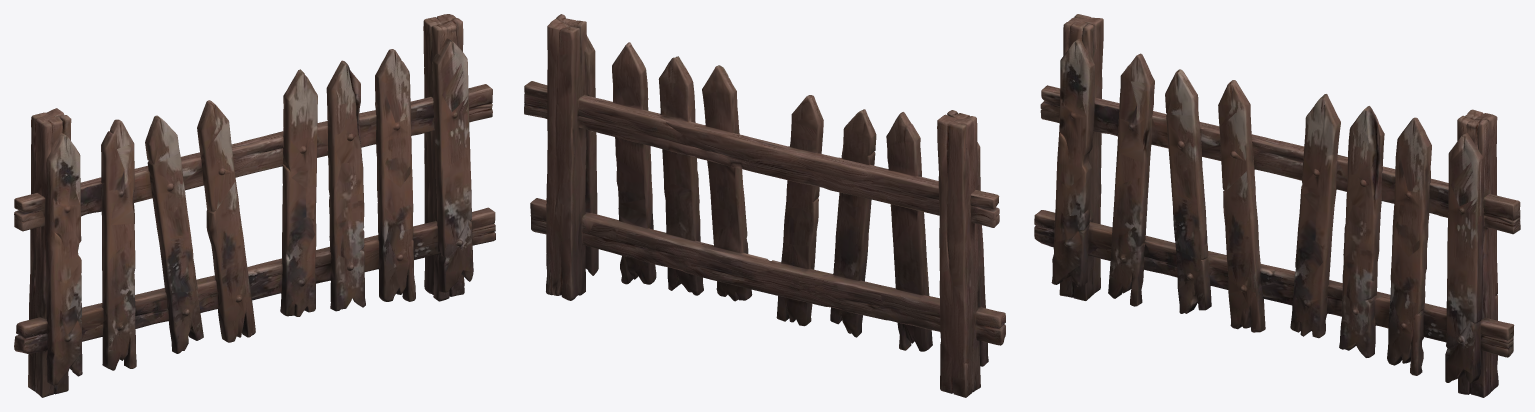
File: ext_fence_wood_idle.glb
3 renders of one model, left to right at view 1: azimuth 30°, elevation 25°; view 2: azimuth 150°, elevation 25°; view 3: azimuth 330°, elevation 25°, orthographic.
Parts seen in each view (by area): view 1: tripo_node_20eca87f-4d80-4b99-ade0-065ae0741056; view 2: tripo_node_20eca87f-4d80-4b99-ade0-065ae0741056; view 3: tripo_node_20eca87f-4d80-4b99-ade0-065ae0741056.
Boxes of the visible parts, left/top/right/bottom form: tripo_node_20eca87f-4d80-4b99-ade0-065ae0741056: left=14, top=14, right=495, bottom=397; tripo_node_20eca87f-4d80-4b99-ade0-065ae0741056: left=524, top=14, right=1005, bottom=397; tripo_node_20eca87f-4d80-4b99-ade0-065ae0741056: left=1034, top=14, right=1520, bottom=397.
Bounding box in the file's own units: 2.73 × 1.5 × 0.2503.
Materials: 1 (1 with a texture image).
